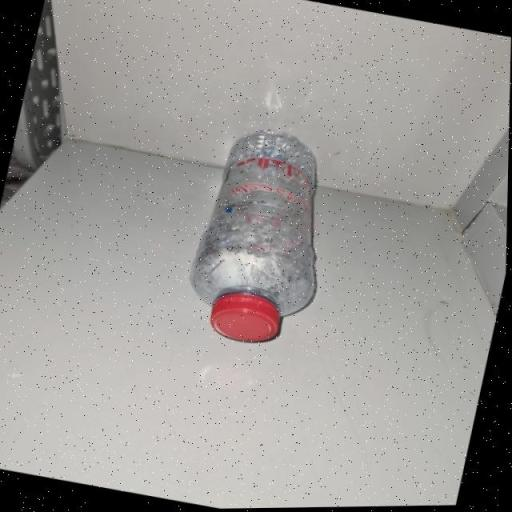plastic: (180, 119, 349, 353)
